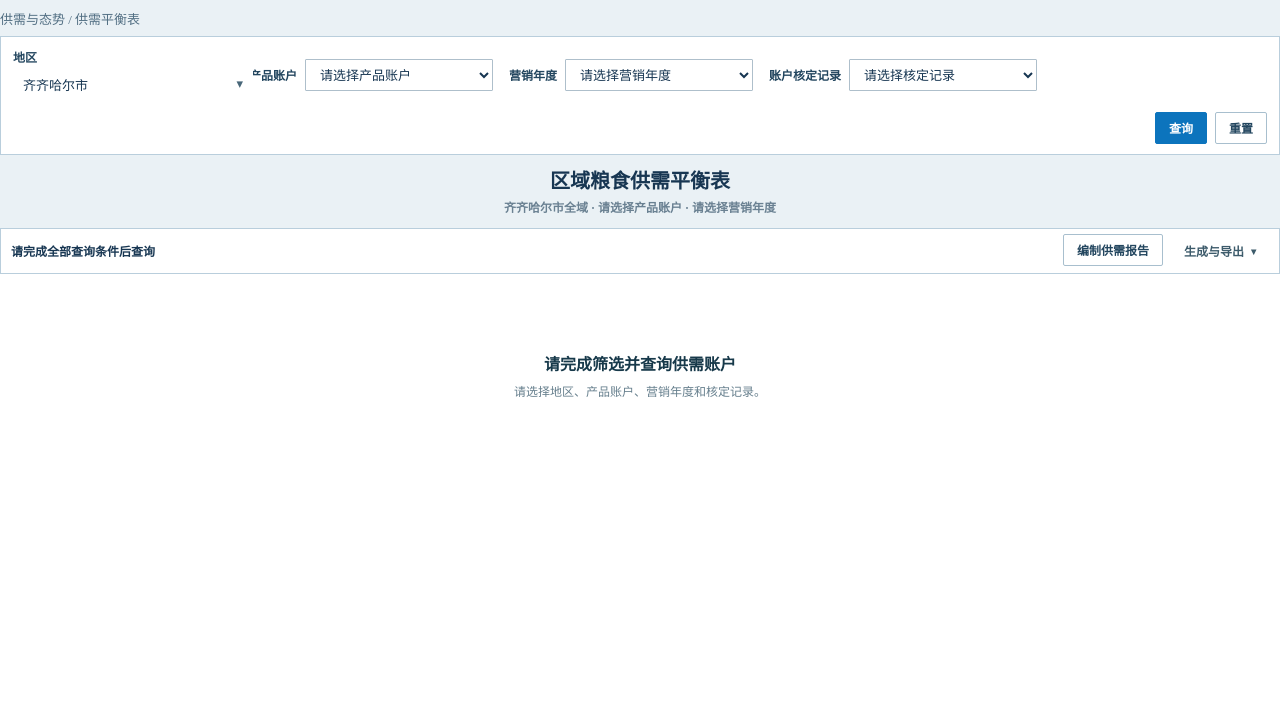
Test case: supply demand workspace › invalidates a previous result when a controlled filter changes
Select "玉米原粮" in the dropdown labelled "产品账户": (399, 75) x1=305 y1=59 x2=493 y2=91
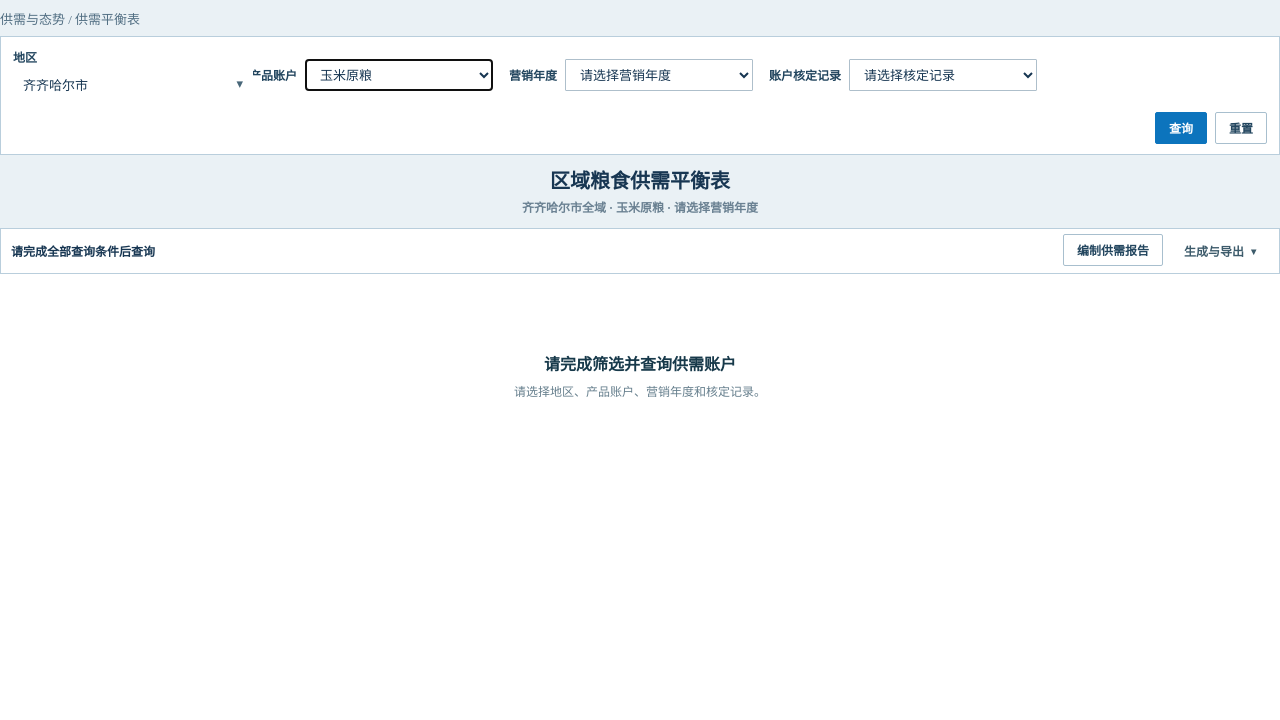
Select "2026/27 营销年度" in the dropdown labelled "营销年度": (659, 75) x1=565 y1=59 x2=753 y2=91
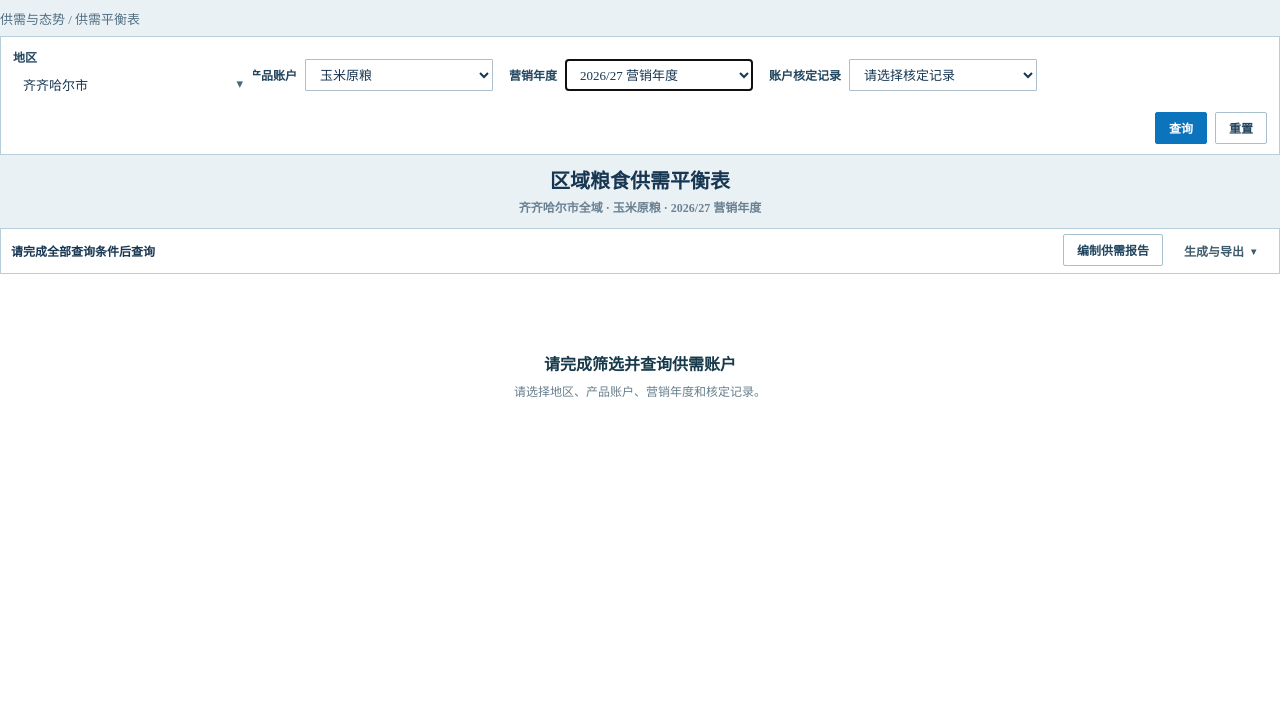
Select "第3次核定（当前采用）" in the dropdown labelled "账户核定记录": (943, 75) x1=849 y1=59 x2=1037 y2=91
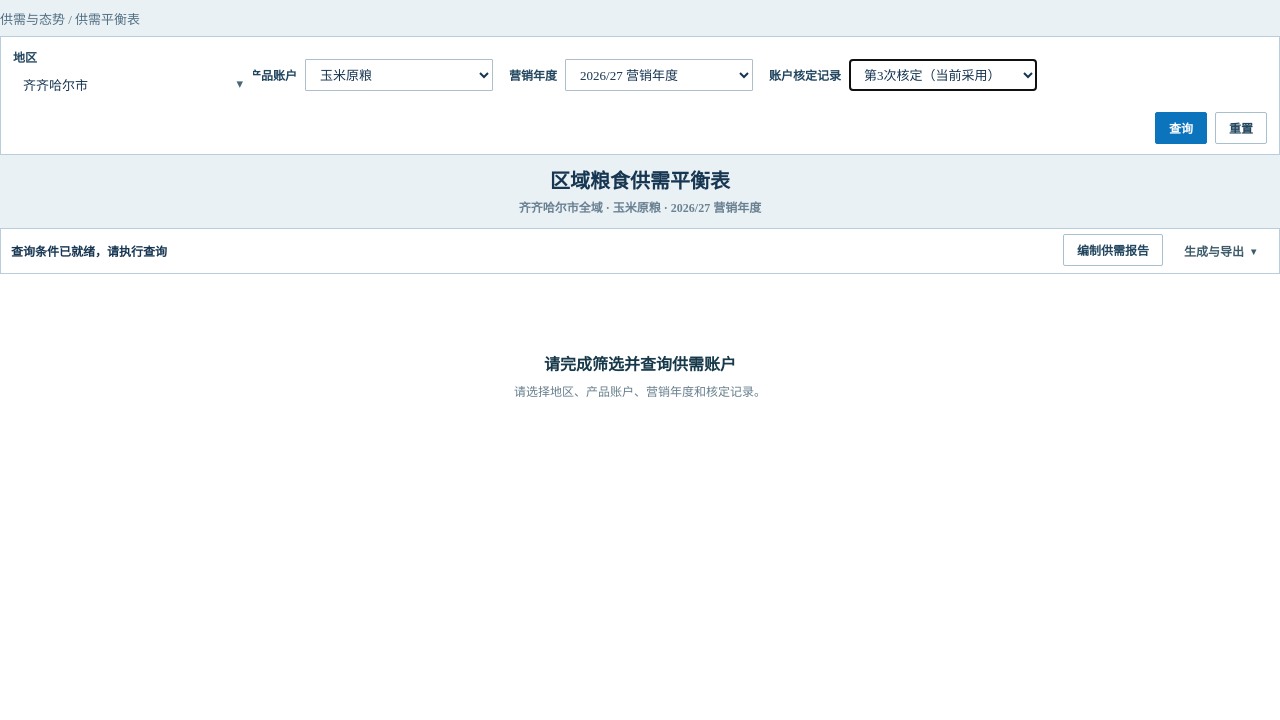
Click the button "查询": click(1181, 128) x1=1155 y1=112 x2=1207 y2=144
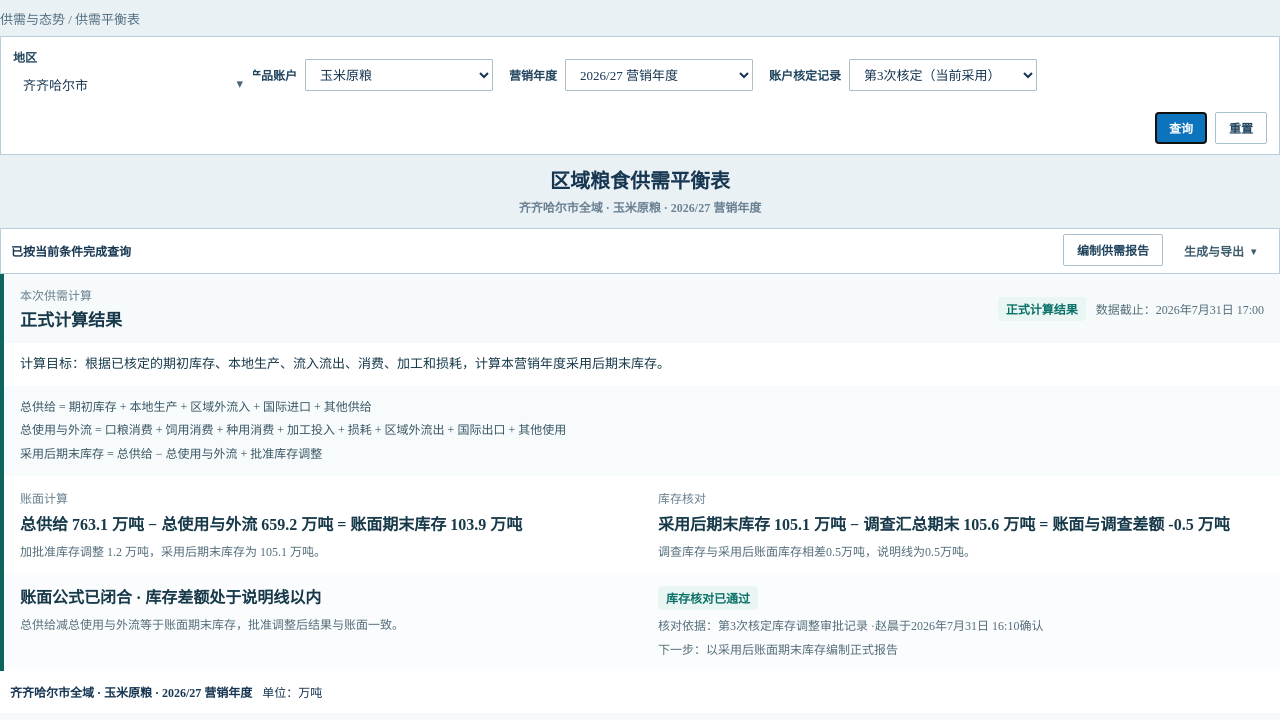
Select "豆粕" in the dropdown labelled "产品账户": (399, 75) x1=305 y1=59 x2=493 y2=91
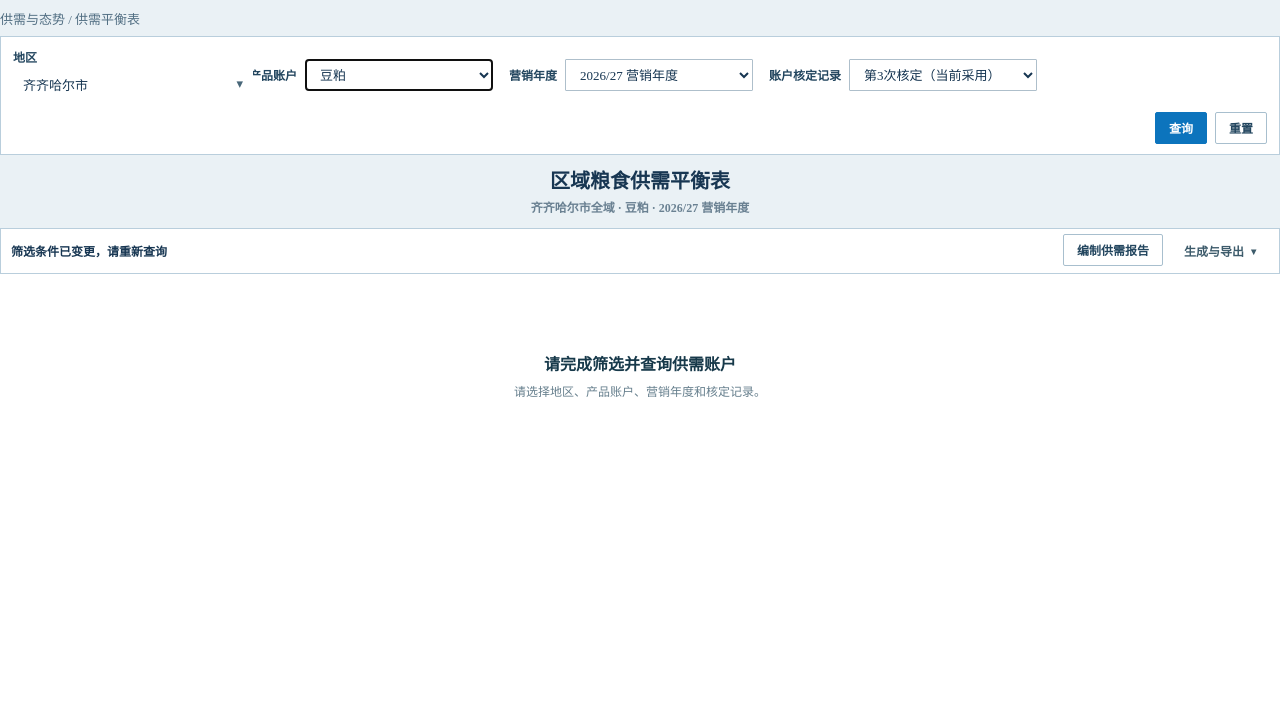
Expected: the text "筛选条件已变更，请重新查询" is shown, x1=11 y1=242 x2=167 y2=260
Click the button "查询": click(1181, 128) x1=1155 y1=112 x2=1207 y2=144
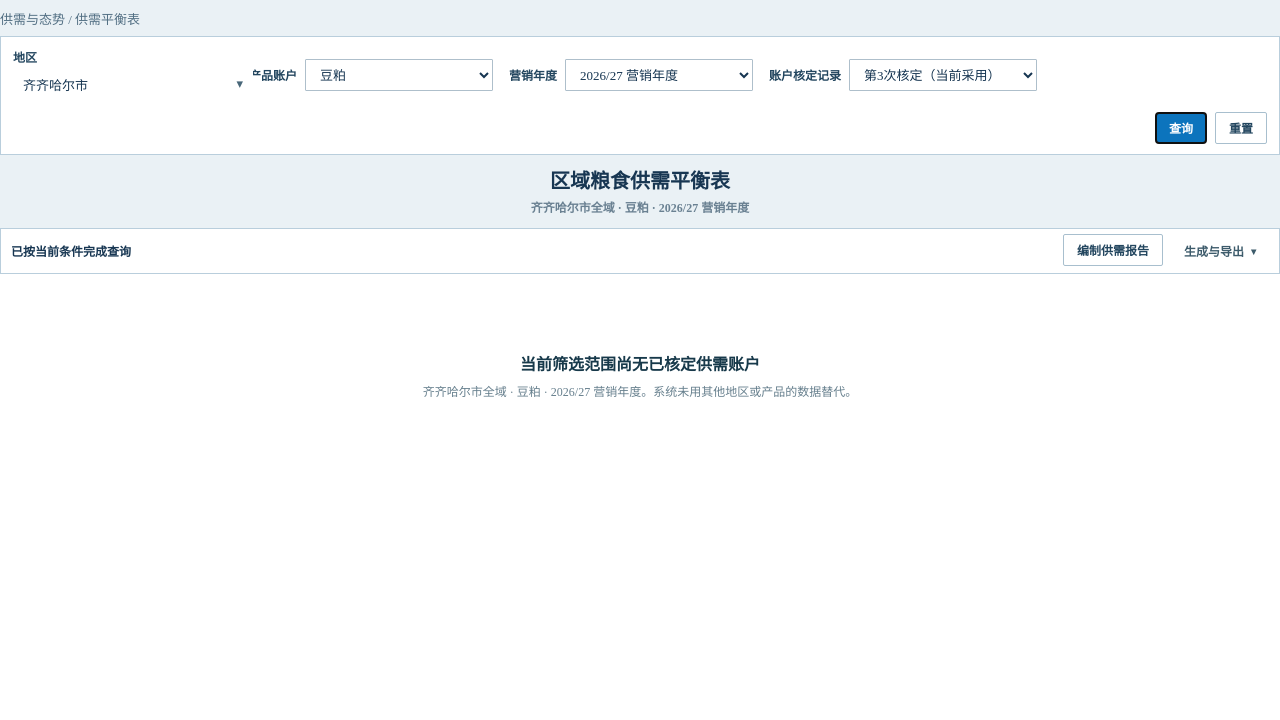
Expected: the element named "供需查询结果" shows "当前筛选范围尚无已核定供需账户", x1=520 y1=356 x2=760 y2=373
